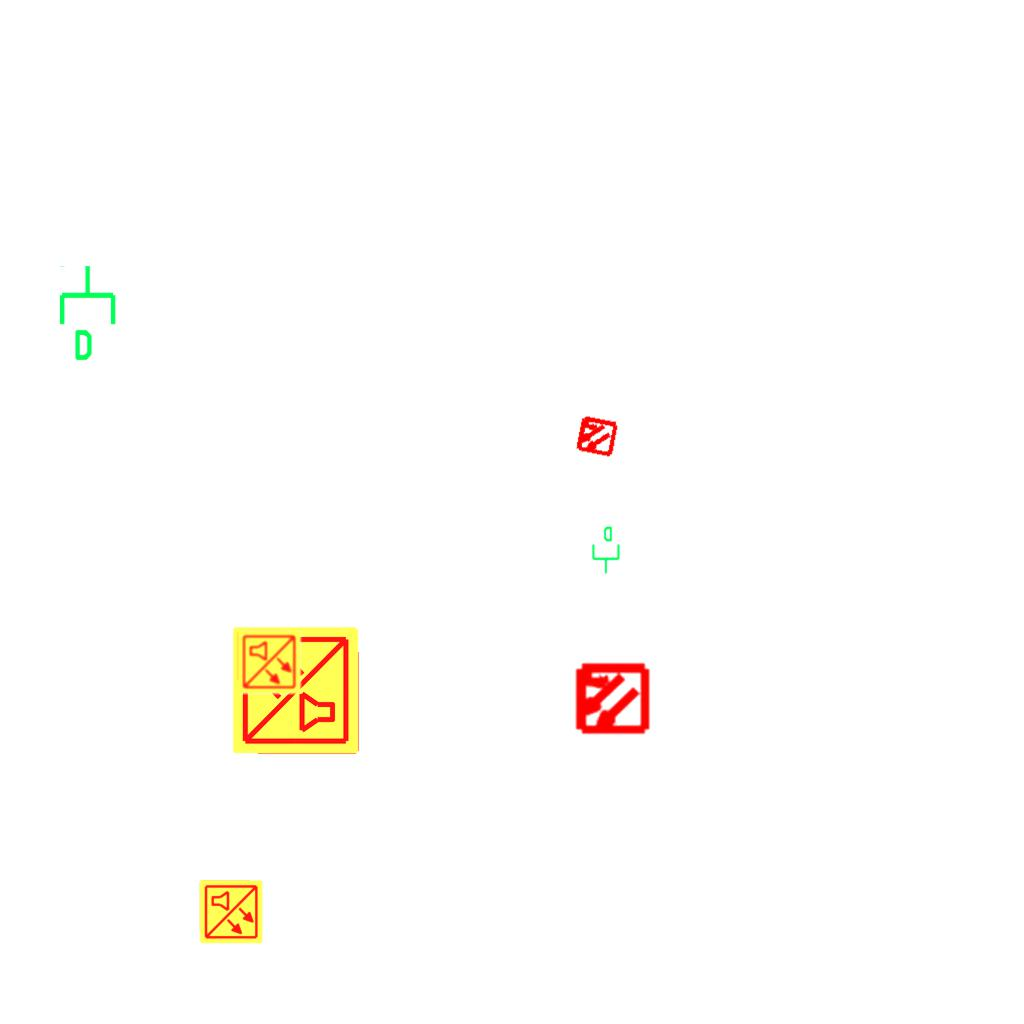Datenanschluss_einfach: (55, 263, 124, 363), (588, 525, 622, 575)
OKW_Multisensormelder_(Kombination_optischer_Rauch-Kahlenmonoxid_Waerme-Melder): (230, 624, 362, 756), (198, 879, 264, 945), (236, 629, 302, 695)
OT_Multisensormelder_(Kombination_RMO_WMD): (554, 642, 667, 755), (563, 403, 629, 469)
